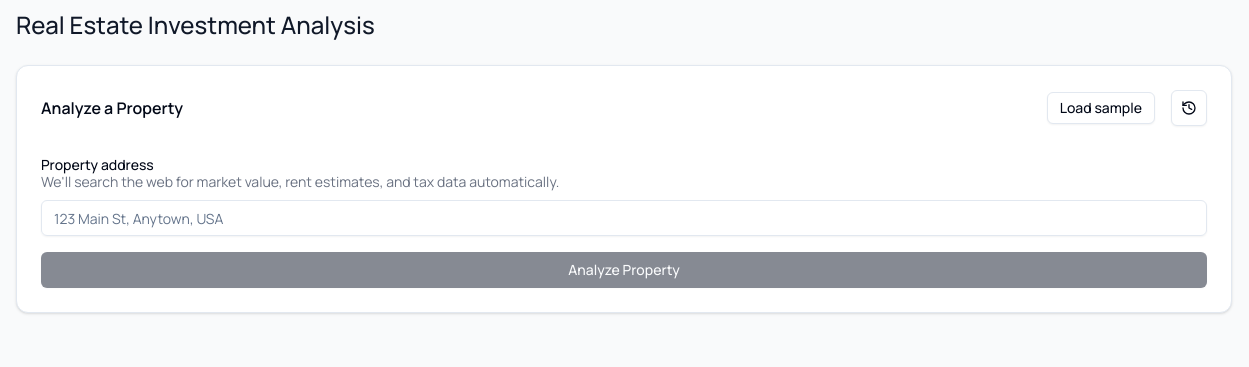
Real Estate Investment Analysis page › surfaces an API error message without crashing
The image size is (1249, 367).
Type "742 Evergreen Terrace, Springfield, IL 62704" into the field labelled "Property address" at coordinates (624, 218), box [41,200,1207,236]
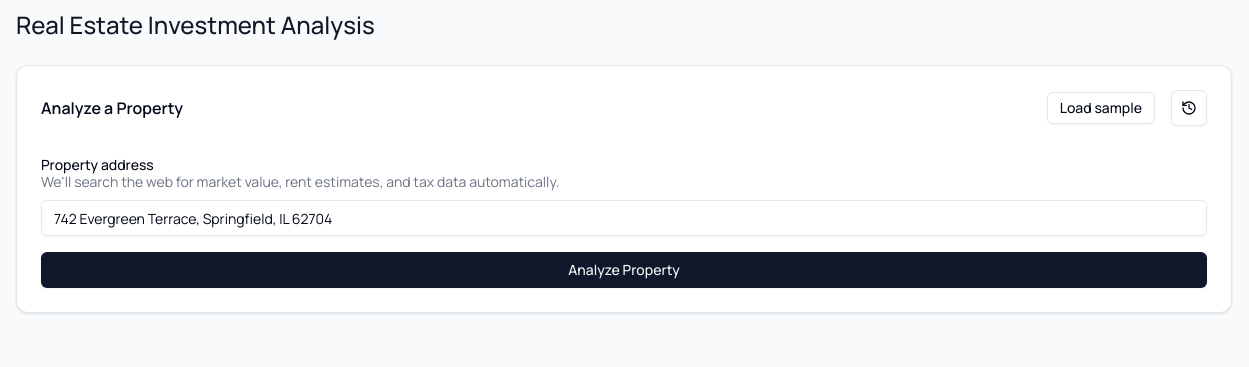
Click the button "Analyze Property" at coordinates (624, 270), box [41,252,1207,288]
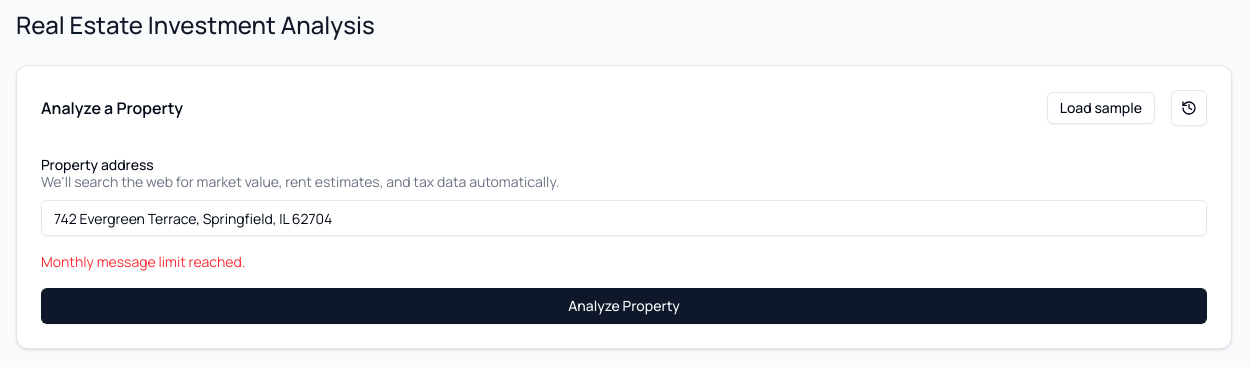
Expected: the text "Monthly message limit reached." is shown, [41,252,245,271]
